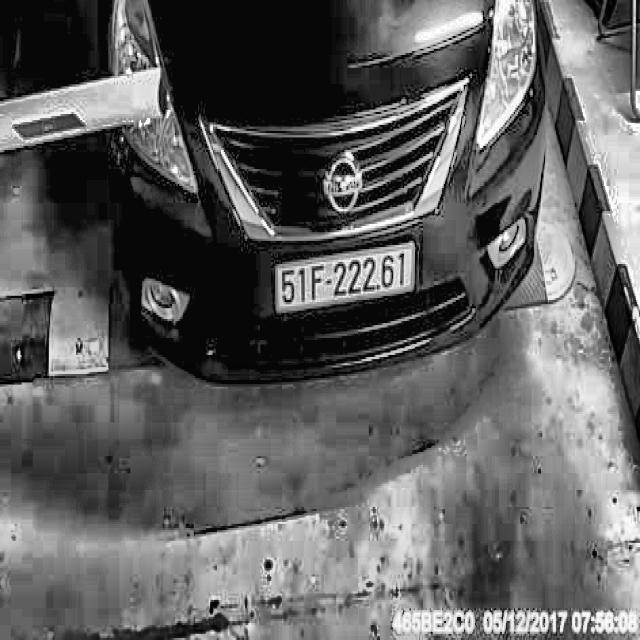plate: (274, 238, 419, 318)
